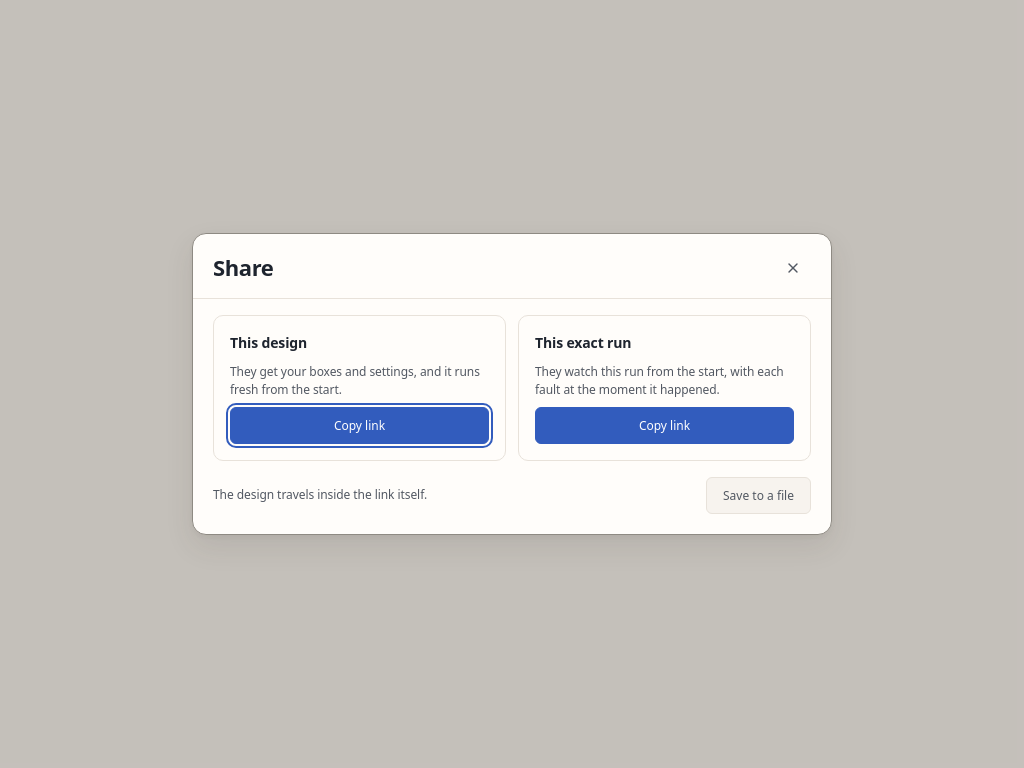
Test case: Share › builds and copies in one click, and says so
The image size is (1024, 768).
Press the mouse on the button with class "sh-copy" below "This exact run" at (664, 425), box top-left (535, 406), bottom-right (794, 444)
Click the button with class "sh-copy" below "This exact run".
click(664, 425)  # box top-left (535, 406), bottom-right (794, 444)
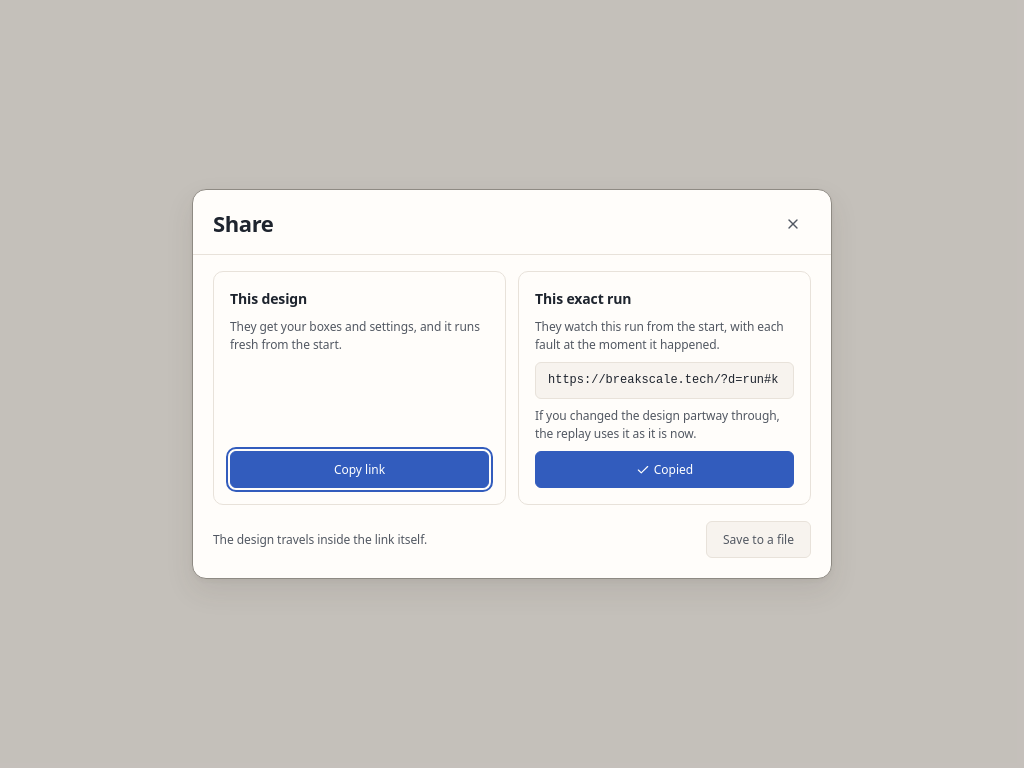
Now the button with class "sh-copy" reads "Copied", box top-left (535, 451), bottom-right (794, 488)
Now the icon below "This exact run" is shown, box top-left (636, 463), bottom-right (650, 477)
